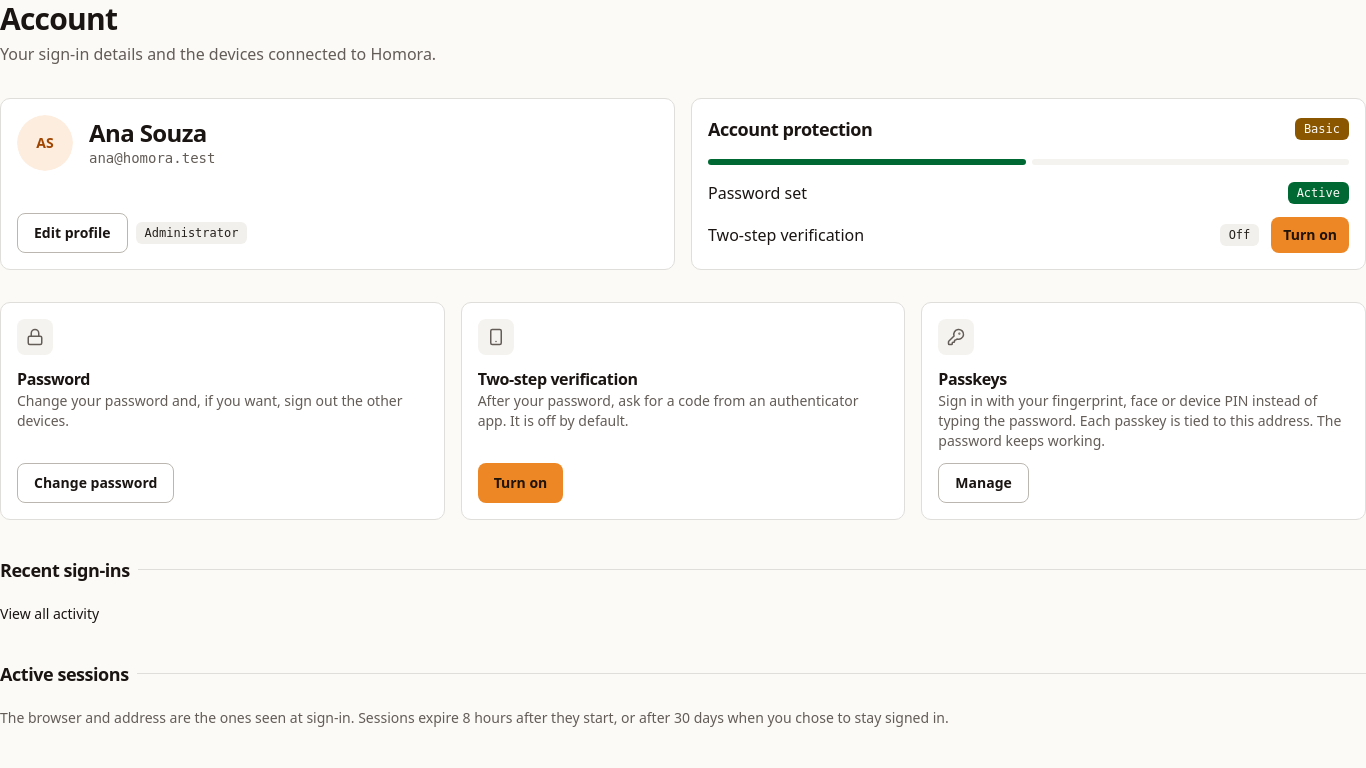
Test: edits the name in a dialog and closes it once saved
Click the button "Edit profile" at (72, 232), box [17,212,128,252]
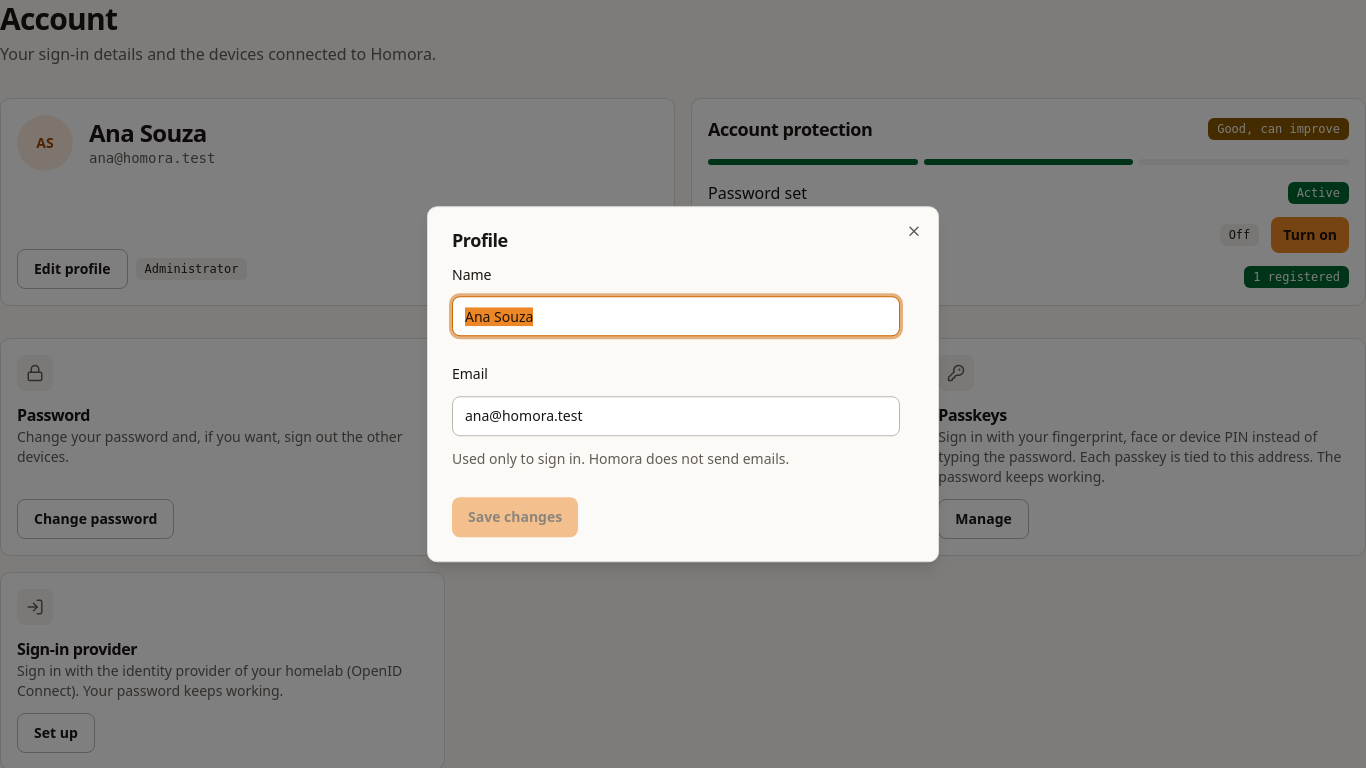
Replace the text in the field labelled "Name" with "Ana Maria" at (676, 316), box [452,296,900,336]
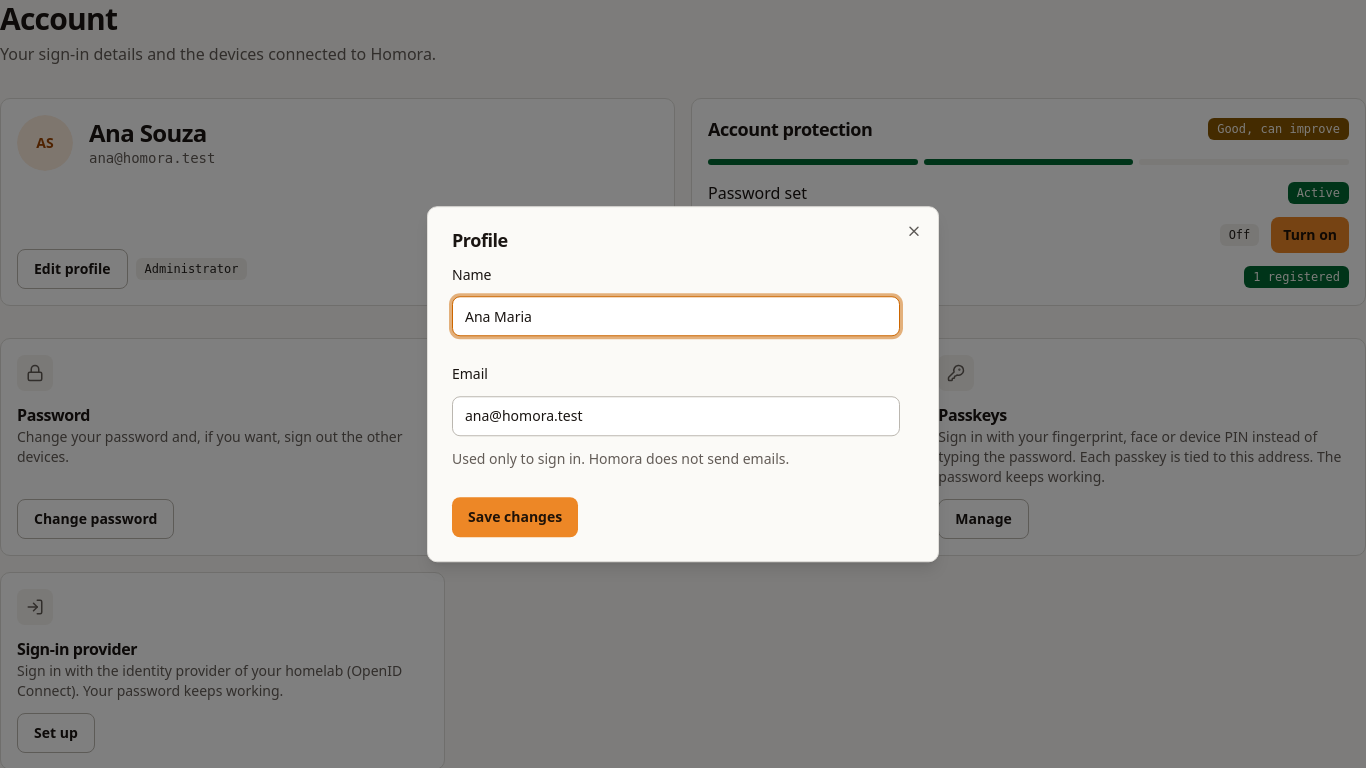
Click the button "Save changes" at (515, 517), box [452,497,578,537]
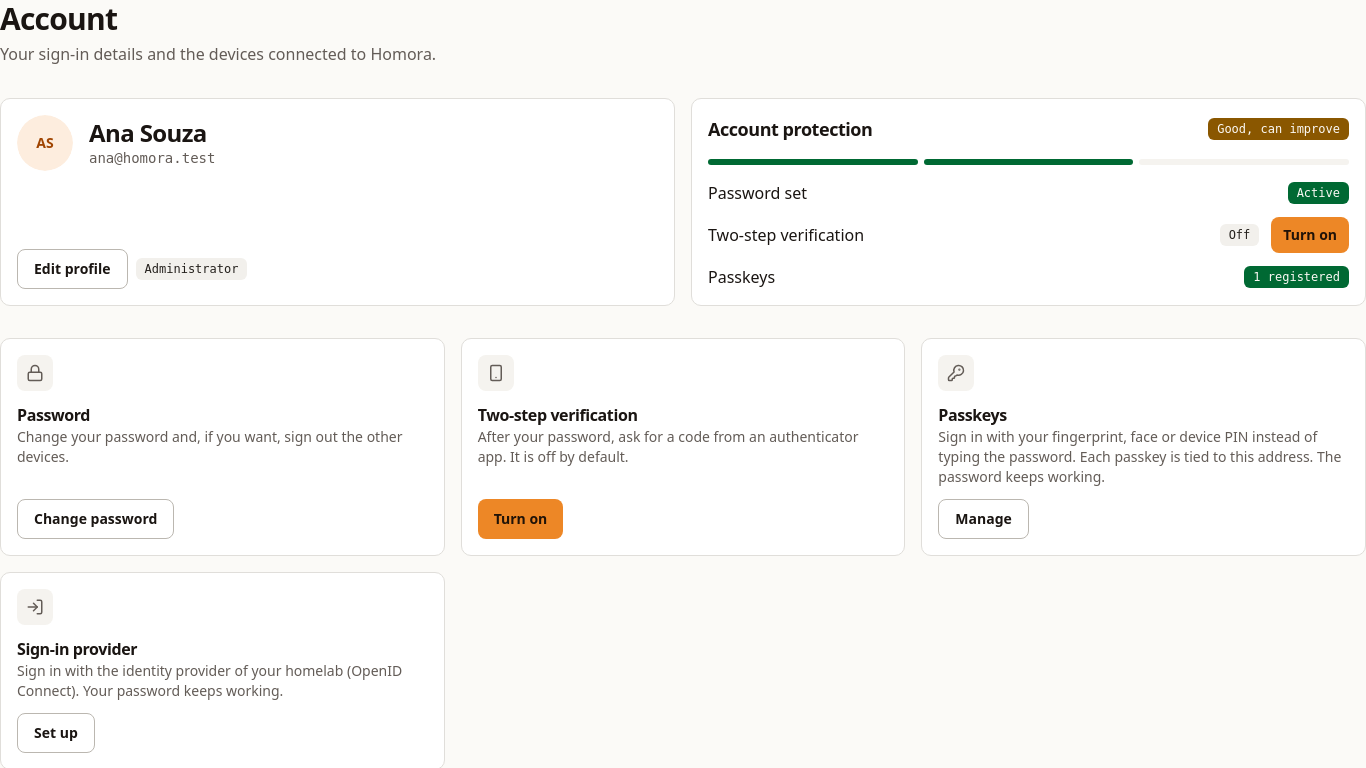
Expected: the dialog is gone
